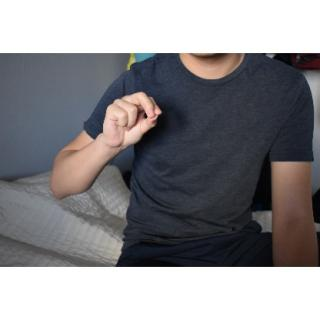QAAF: (94, 87, 164, 153)
